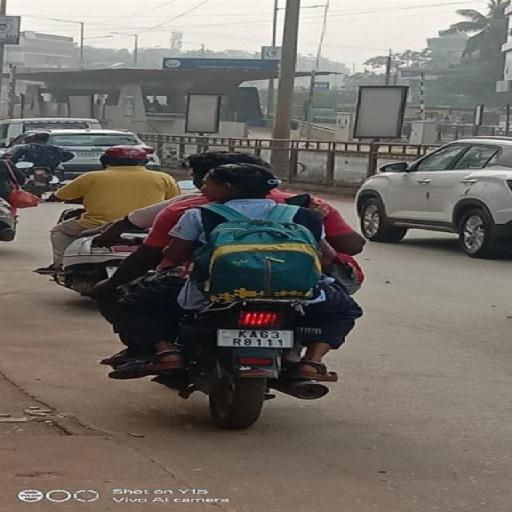tripple riding: (97, 145, 369, 321)
